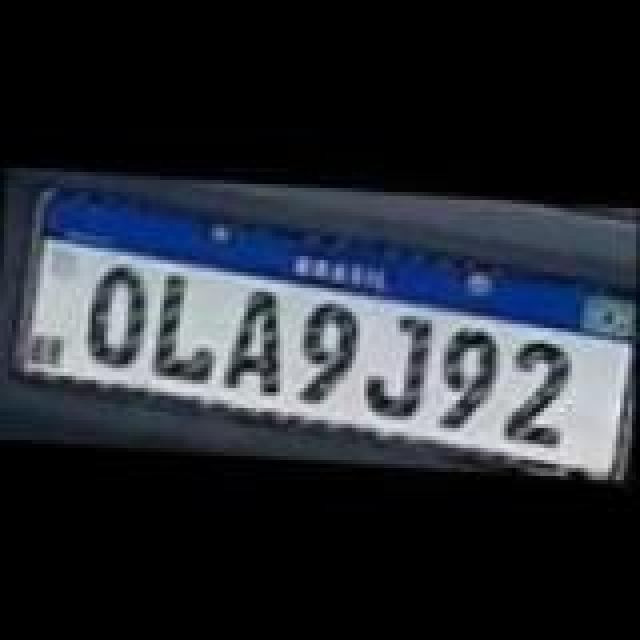2: (508, 334, 576, 446)
9: (434, 326, 506, 438), (300, 300, 368, 412)
A: (224, 282, 292, 398)
J: (364, 308, 432, 420)
L: (150, 272, 230, 388)
O: (84, 264, 152, 380)
